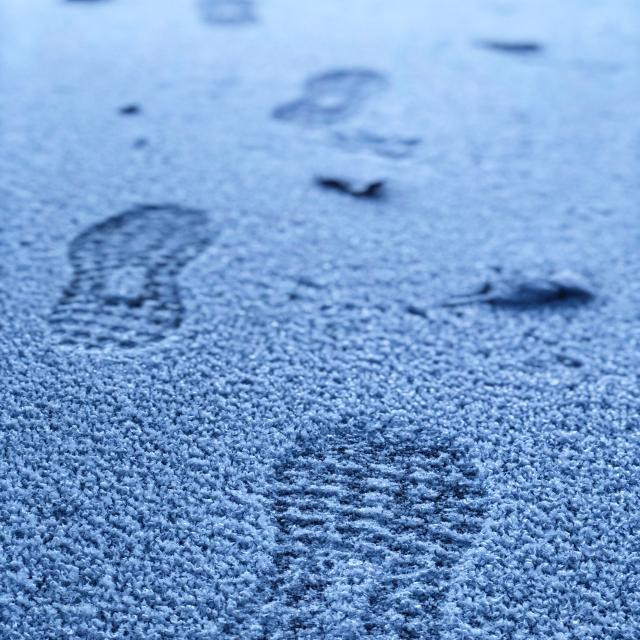human_foot_print: (69, 92, 607, 640)
